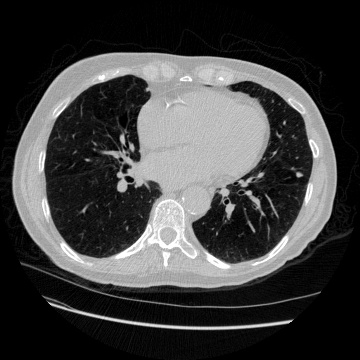PN: (296, 171, 302, 177)
